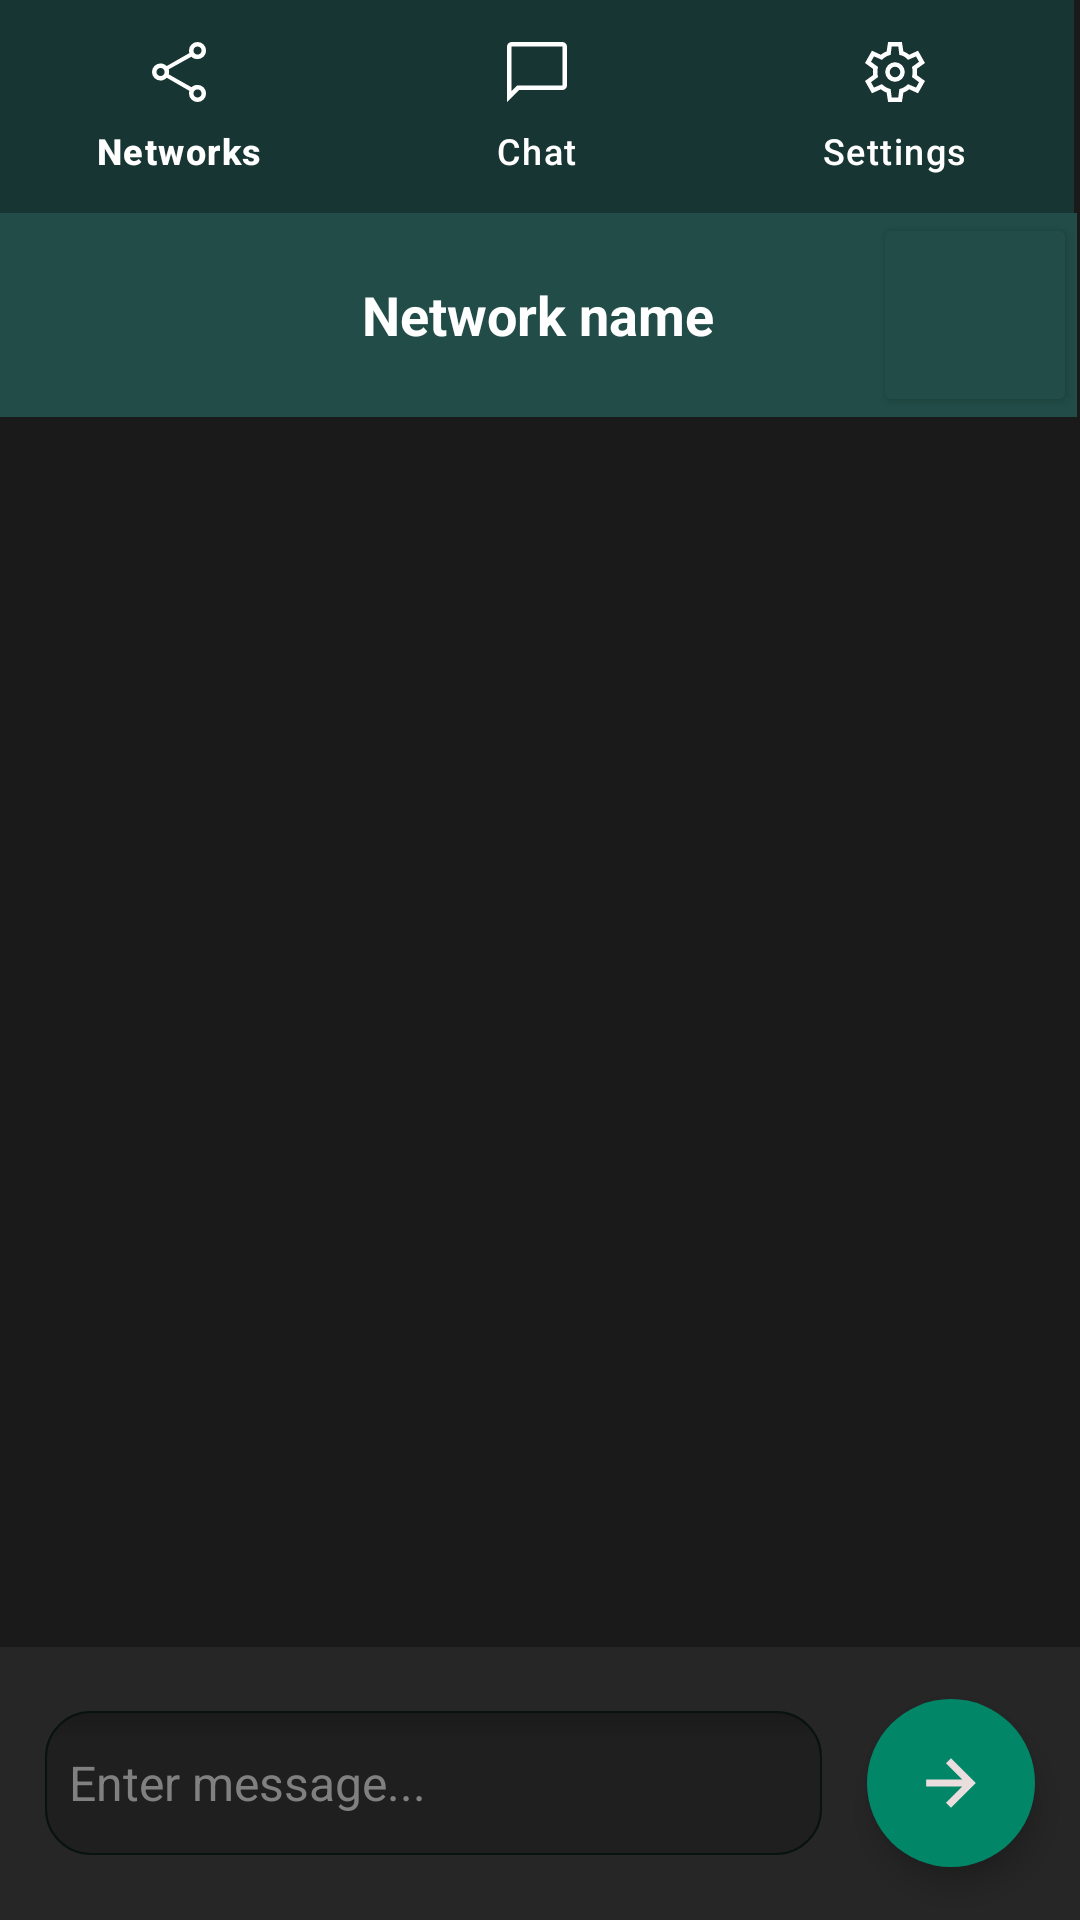

Named icons in this screenshot (1080 × 1920) and their centers, (x=x, y=y):
arrow forward: (x=951, y=1783)
